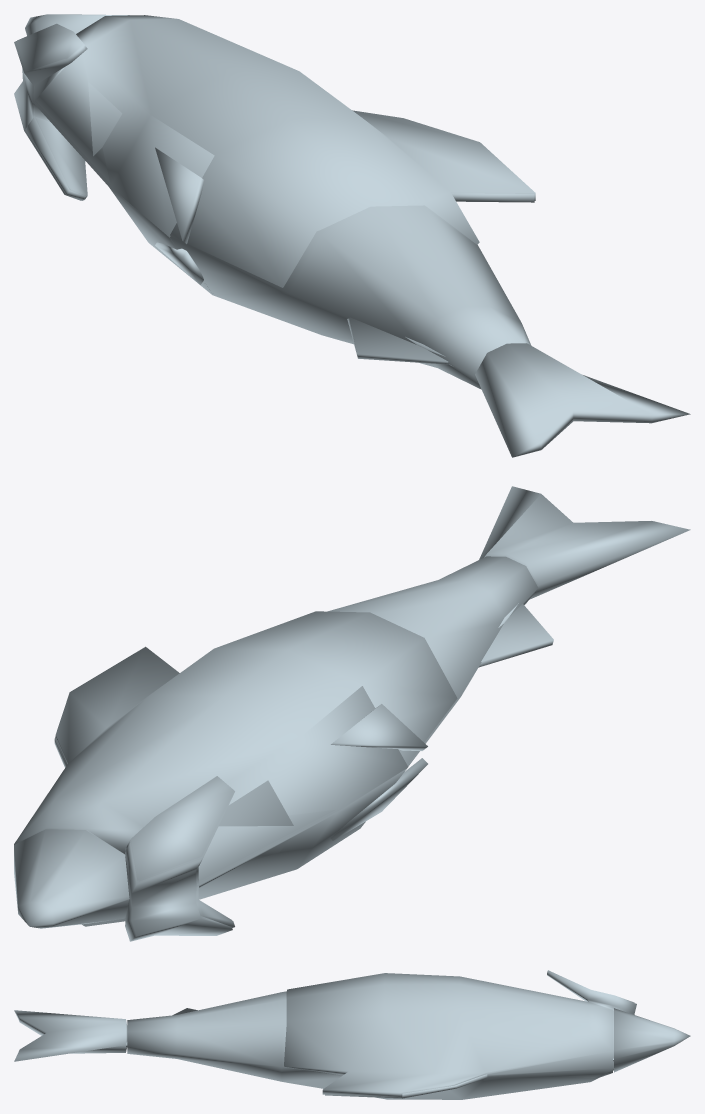
File: Fish.fbx
The picture shows the model from 3 angles, top to bottom: view 1: azimuth 30°, elevation 25°; view 2: azimuth 150°, elevation 25°; view 3: azimuth 270°, elevation 25°; orthographic projection. The views are drawn at different scales.
Parts seen in each view (by area): view 1: Fish3/4, Fish4/4, Fish, Fish2/4, Fish1/4; view 2: Fish3/4, Fish4/4, Fish, Fish2/4, Fish1/4; view 3: Fish3/4, Fish4/4, Fish, Fish1/4.
Boxes of the visible parts, x1,y1,x2,y2 form: Fish3/4: [17, 15, 535, 287]; Fish4/4: [14, 41, 531, 389]; Fish: [25, 14, 690, 457]; Fish2/4: [16, 42, 534, 289]; Fish1/4: [37, 48, 122, 199]; Fish3/4: [14, 611, 457, 920]; Fish4/4: [54, 556, 553, 941]; Fish: [14, 486, 690, 928]; Fish2/4: [138, 686, 407, 927]; Fish1/4: [14, 780, 293, 862]; Fish3/4: [284, 970, 634, 1096]; Fish4/4: [127, 991, 636, 1099]; Fish: [14, 1008, 690, 1072]; Fish1/4: [485, 971, 616, 1077].
Bounding box in the file's own units: 9.47 × 4.85 × 28.56.
